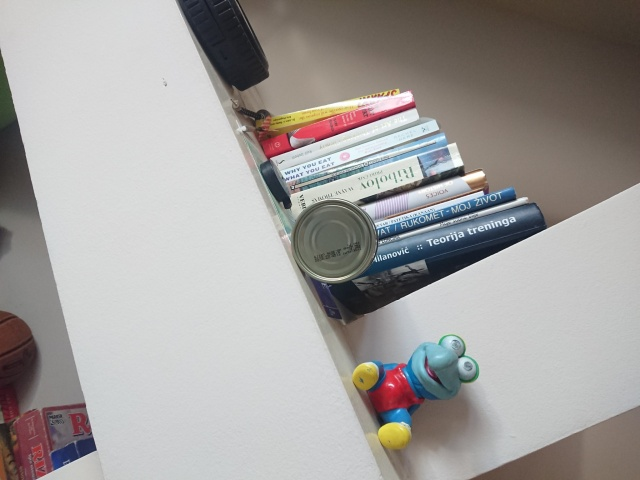Giana Tuna Salad Mexico 185g: (288, 196, 382, 288)
